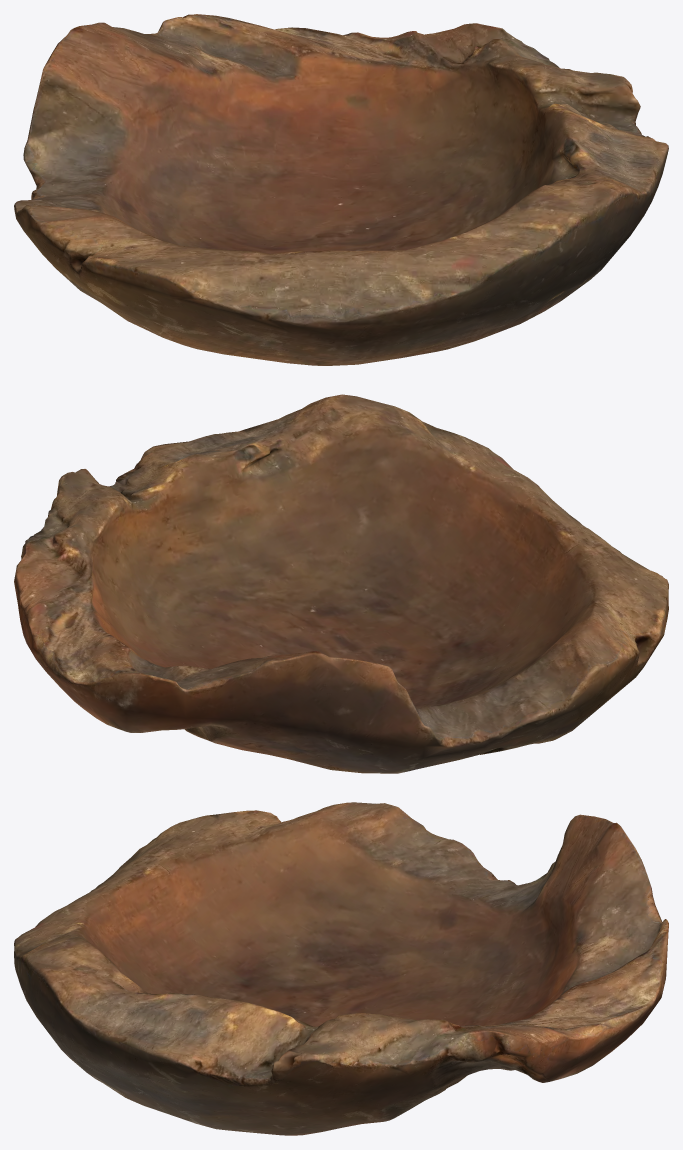
The model's file is wooden_bowl_01.glb.
3 views of the same model, one above another, from view 1: azimuth 30°, elevation 25°; view 2: azimuth 150°, elevation 25°; view 3: azimuth 270°, elevation 25° (orthographic). The views are drawn at different scales.
Parts seen in each view (by area): view 1: wooden_bowl_01; view 2: wooden_bowl_01; view 3: wooden_bowl_01.
Part boxes in pixels (x1,y1,x2,y2): wooden_bowl_01: (14, 14, 668, 365); wooden_bowl_01: (14, 394, 668, 773); wooden_bowl_01: (14, 802, 668, 1135).
Size of the model in its own units: 0.313 by 0.0937 by 0.3091.
1 material, 1 textured.
